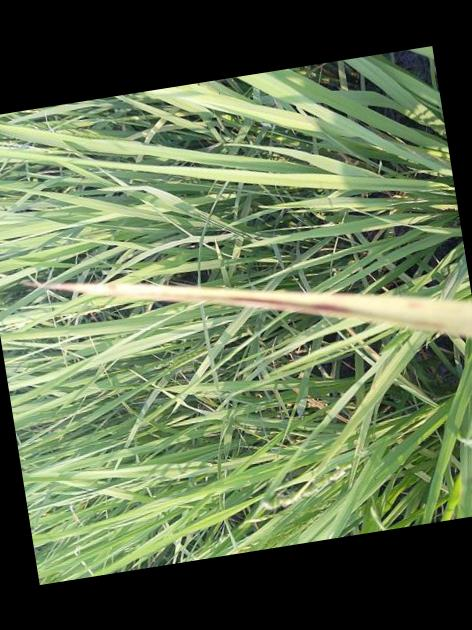Leaf Blight: (29, 280, 472, 336)
